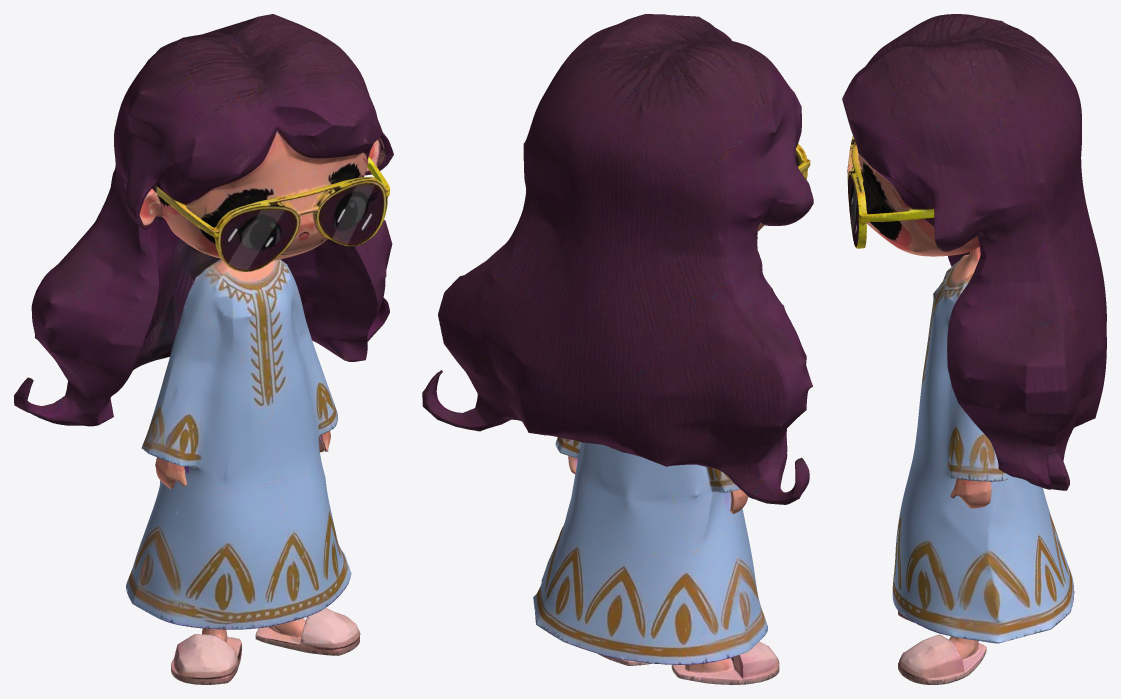
The model's file is mira-cool-glasses.glb.
3 views of the same model, side by side, from view 1: azimuth 30°, elevation 25°; view 2: azimuth 150°, elevation 25°; view 3: azimuth 270°, elevation 25° (orthographic). The views are drawn at different scales.
Size of the model in its own units: 1.2 by 1.9 by 0.7538.
1 material, 1 textured.
